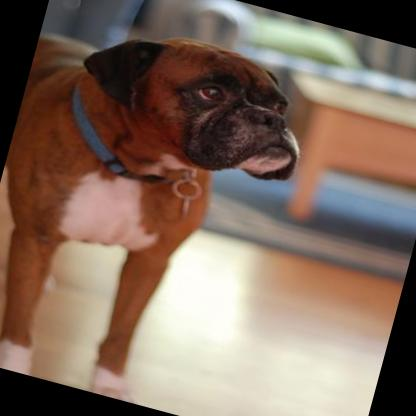boxer: (0, 1, 318, 416)
